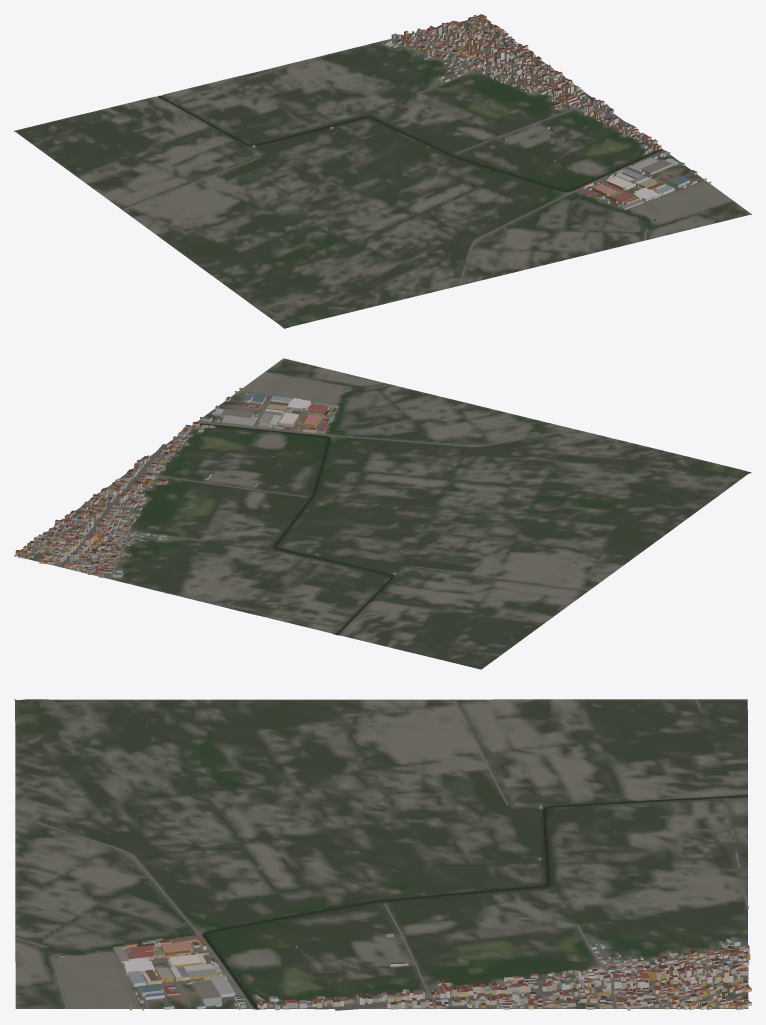
3 views of the same model, one above another, from view 1: azimuth 30°, elevation 25°; view 2: azimuth 150°, elevation 25°; view 3: azimuth 270°, elevation 25° (orthographic). The views are drawn at different scales.
Visible parts, largest first — view 1: ground, buildings, roads, water; view 2: ground, buildings, roads, water; view 3: ground, buildings, roads, water.
Part boxes in pixels (<box>): ground: <box>14,20,751,328</box>; buildings: <box>252,14,711,221</box>; roads: <box>33,26,732,285</box>; water: <box>158,95,663,328</box>; ground: <box>14,358,750,669</box>; buildings: <box>15,387,395,577</box>; roads: <box>31,372,589,655</box>; water: <box>200,423,751,634</box>; ground: <box>15,699,748,1009</box>; buildings: <box>60,805,751,1010</box>; roads: <box>15,699,748,1010</box>; water: <box>14,699,747,1009</box>.
Size of the model in its own units: 1411 by 28.84 by 1412.
